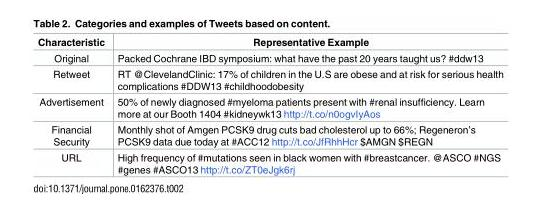table: (37, 37, 502, 174)
table column: (110, 37, 502, 174), (37, 37, 110, 174)
table column header: (37, 37, 502, 50)
table row: (37, 66, 502, 94), (37, 121, 502, 149), (37, 94, 502, 121), (37, 149, 502, 174), (37, 50, 502, 66), (37, 37, 502, 50)
